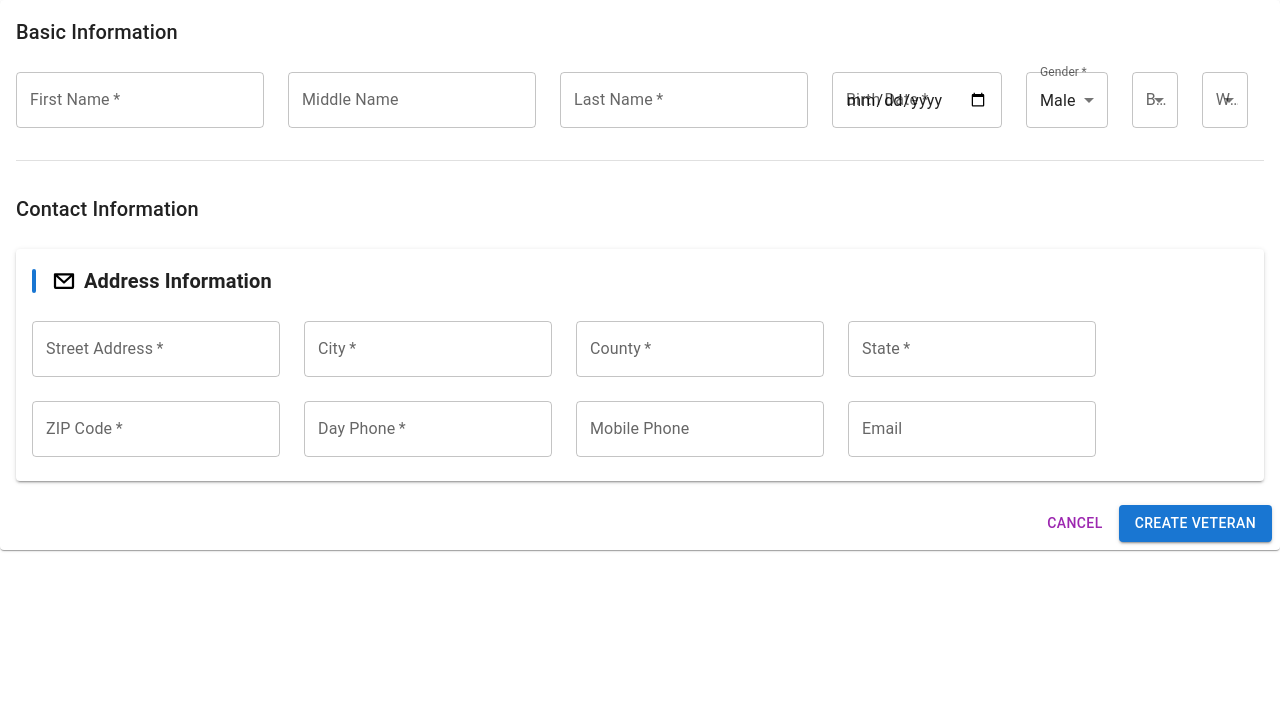
Test: VeteranCreateForm › shows calculated age in the birth date label when a valid date is entered
Type "1950-01-01" into the date field named "birth_date". click: (917, 100)
box: [832,72,1002,128]
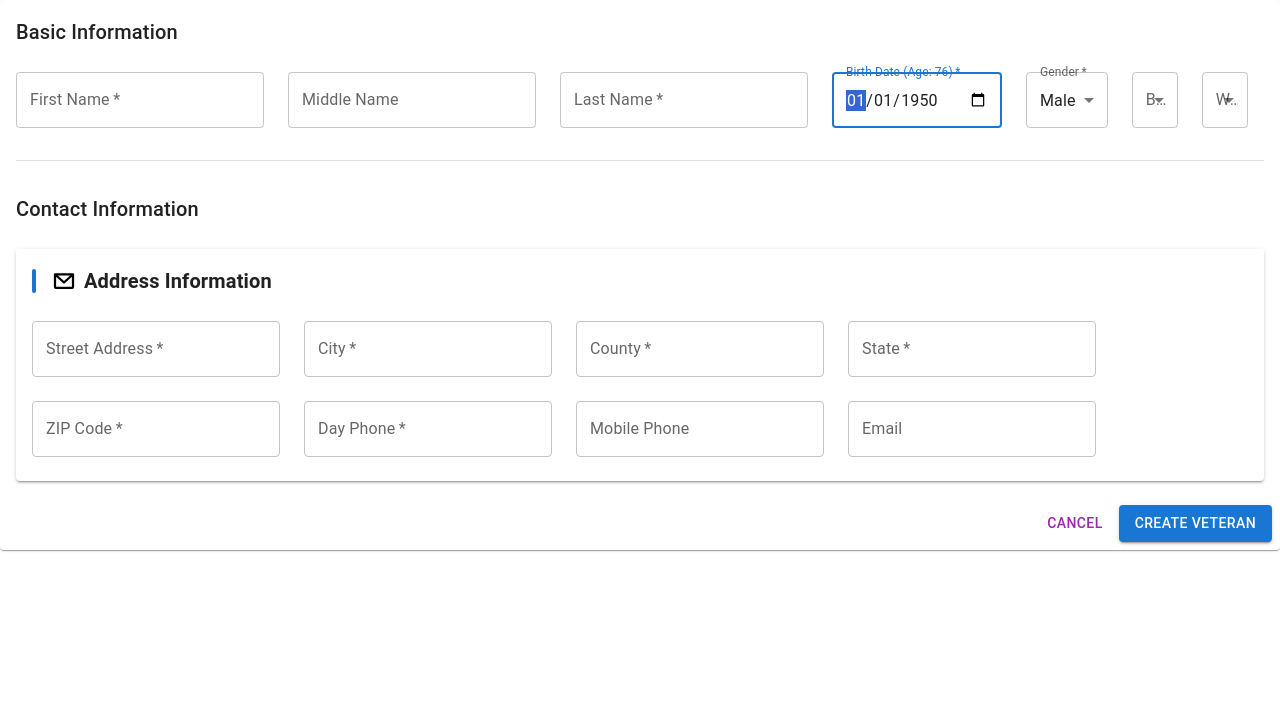
expect the text "Birth Date (Age: 76)" is shown: met, box [846,64,953,79]
